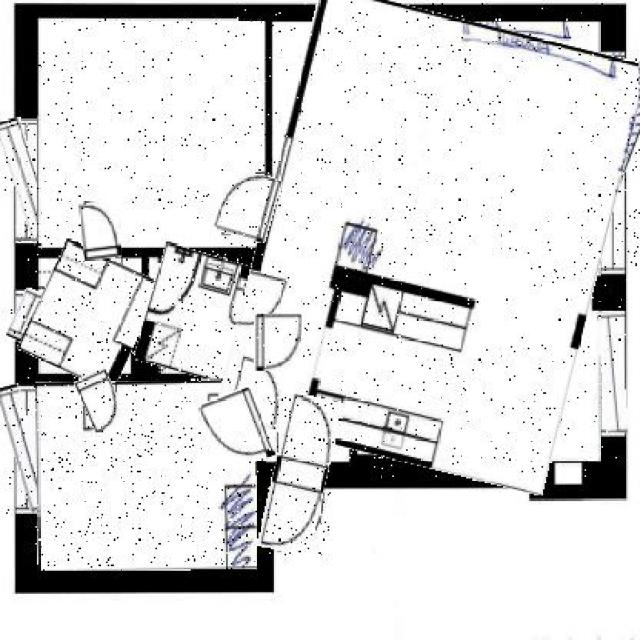door: (266, 396, 334, 556), (202, 391, 269, 471), (217, 170, 278, 242), (254, 314, 301, 371), (80, 371, 123, 431), (82, 202, 122, 260)
window: (580, 54, 640, 272), (5, 117, 49, 246), (5, 383, 44, 514), (599, 311, 626, 432), (10, 289, 44, 345)
zone: (238, 1, 624, 478), (37, 19, 265, 246), (35, 378, 257, 571), (28, 248, 152, 384), (140, 249, 263, 382)
